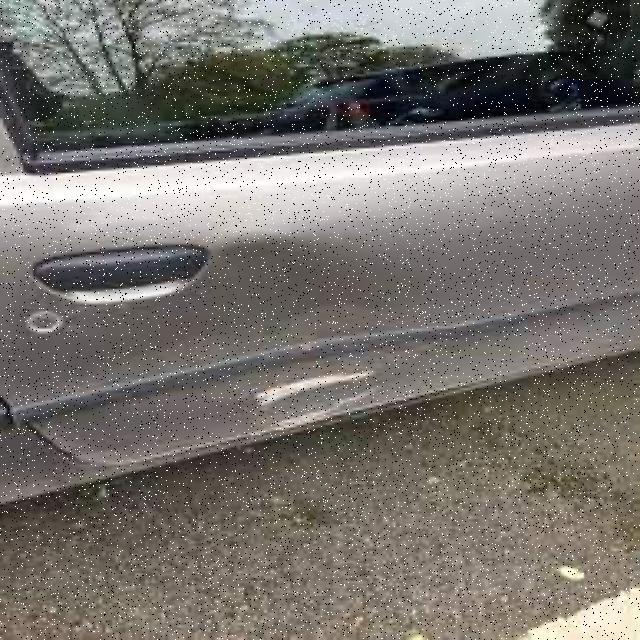doorouter-dent: (3, 148, 636, 440)
